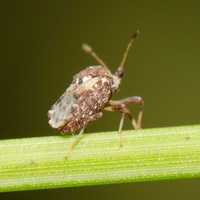insect: (48, 31, 143, 158)
